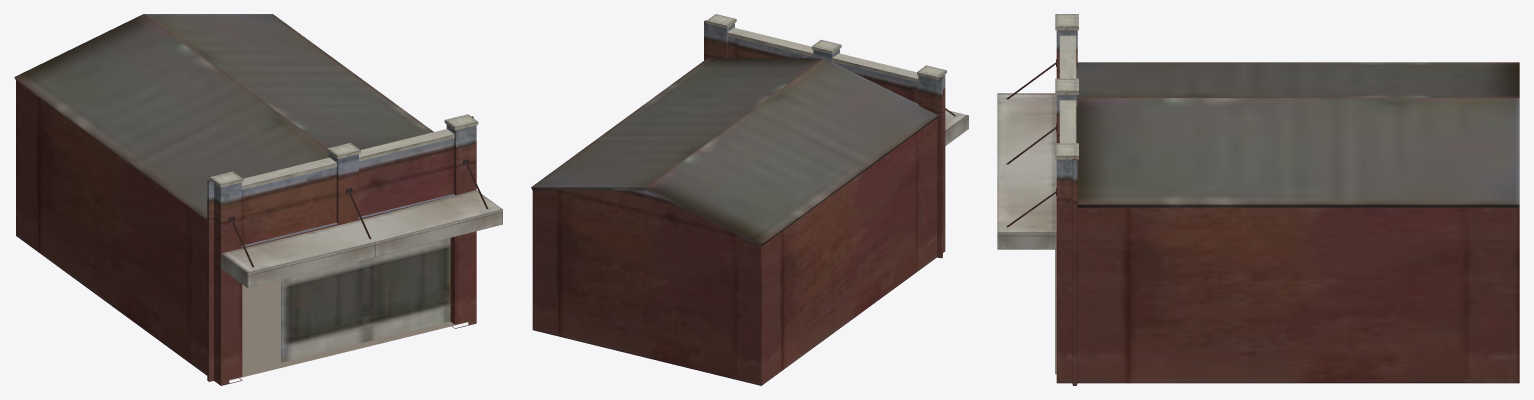
File: rural-store-1.access-v2.lod1.glb
3 renders of one model, left to right at view 1: azimuth 30°, elevation 25°; view 2: azimuth 150°, elevation 25°; view 3: azimuth 270°, elevation 25°, orthographic. The views are drawn at different scales.
Parts seen in each view (by area): view 1: Rural_StoreSmall_1_Rural_Brownstone_Facade_Flr_6_0, Rural_StoreSmall_1_Rural_Facade_FLR_2_0, Walkable floors and stairs; view 2: Rural_StoreSmall_1_Rural_Brownstone_Facade_Flr_6_0, Rural_StoreSmall_1_Rural_Facade_FLR_2_0; view 3: Rural_StoreSmall_1_Rural_Brownstone_Facade_Flr_6_0, Rural_StoreSmall_1_Rural_Facade_FLR_2_0.
Boxes of the visible parts, <box> form: Rural_StoreSmall_1_Rural_Brownstone_Facade_Flr_6_0: <box>14,14,476,385</box>; Rural_StoreSmall_1_Rural_Facade_FLR_2_0: <box>210,114,502,362</box>; Walkable floors and stairs: <box>230,280,468,380</box>; Rural_StoreSmall_1_Rural_Brownstone_Facade_Flr_6_0: <box>531,20,945,385</box>; Rural_StoreSmall_1_Rural_Facade_FLR_2_0: <box>706,14,968,145</box>; Rural_StoreSmall_1_Rural_Brownstone_Facade_Flr_6_0: <box>1056,30,1519,385</box>; Rural_StoreSmall_1_Rural_Facade_FLR_2_0: <box>997,14,1078,249</box>.
Size of the model in its own units: 8.32 by 6.06 by 12.59.
Materials: 3 (2 with a texture image).
